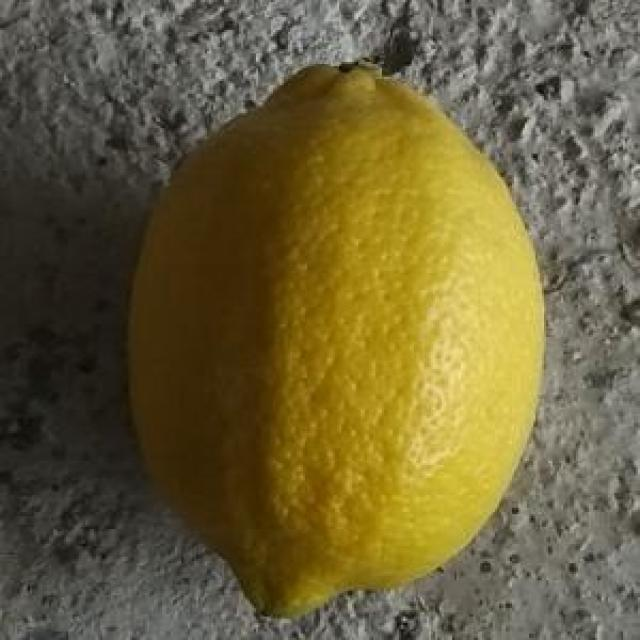lemon: (132, 54, 552, 628)
